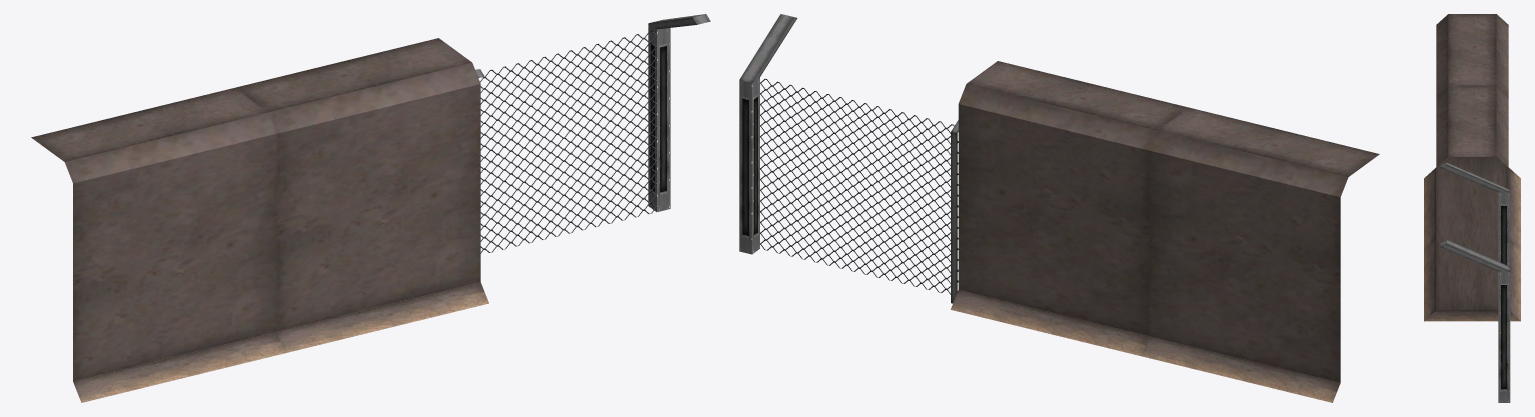
The model's file is Mission1_FenceC.glb.
3 views of the same model, side by side, from view 1: azimuth 30°, elevation 25°; view 2: azimuth 150°, elevation 25°; view 3: azimuth 270°, elevation 25° (orthographic). The views are drawn at different scales.
Visible parts, largest first — view 1: MISSION1_FENCEC; view 2: MISSION1_FENCEC; view 3: MISSION1_FENCEC.
Boxes of the visible parts, bbox=[...] form: MISSION1_FENCEC: bbox=[31, 14, 710, 402]; MISSION1_FENCEC: bbox=[739, 14, 1379, 402]; MISSION1_FENCEC: bbox=[1424, 14, 1520, 402].
Bounding box in the file's own units: 11 × 3.75 × 2.
6 materials, 6 textured.
